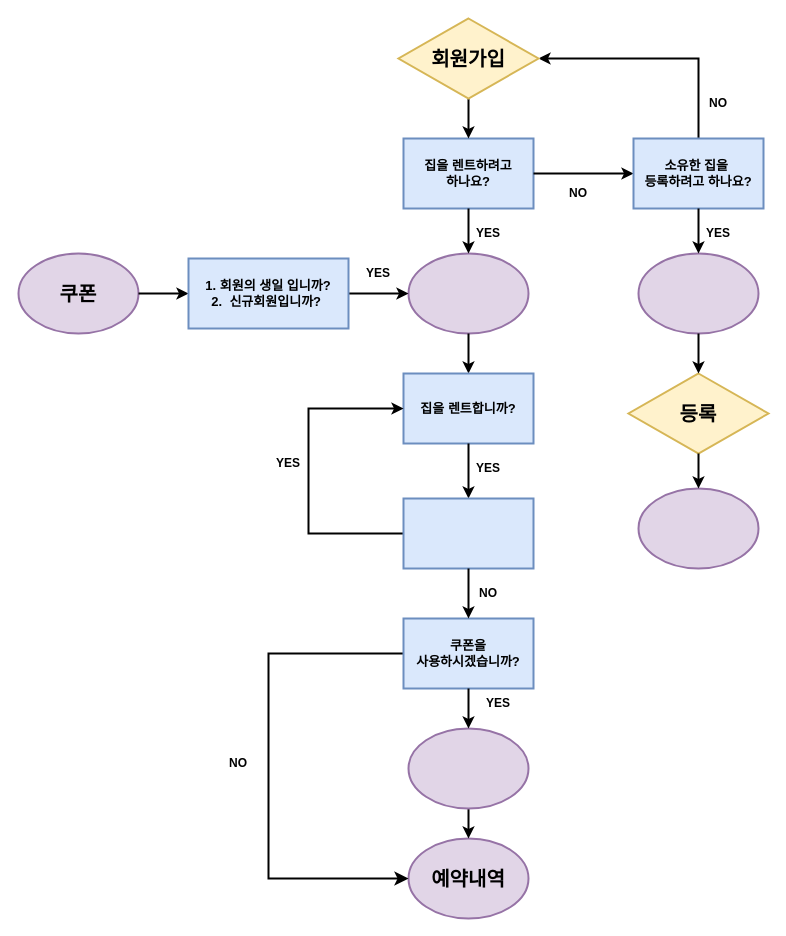
This 786x936 diagram has some shape labels left out. The centre of each missing label's shape, as x and y in pixels:
"숙소" goes at point 698,528.
"숙소 예약 날짜가 중복이 됩니까?" goes at point 468,533.
"집주인" goes at point 698,293.
"쿠폰이용내역" goes at point 468,768.
"회원" goes at point 468,293.
